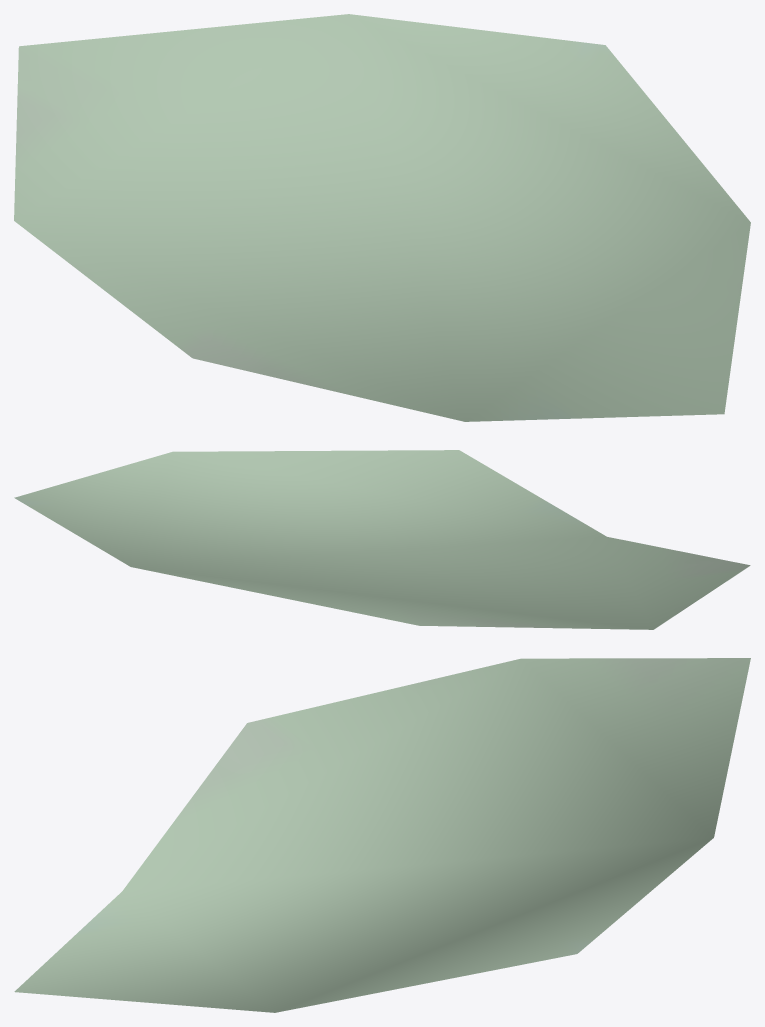
The model's file is TROLLHOLE02_HOLECAP200.fbx.
The picture shows the model from 3 angles, top to bottom: view 1: azimuth 30°, elevation 25°; view 2: azimuth 150°, elevation 25°; view 3: azimuth 270°, elevation 25°; orthographic projection.
Parts seen in each view (by area): view 1: TROLLHOLE02_HOLECAP200; view 2: TROLLHOLE02_HOLECAP200; view 3: TROLLHOLE02_HOLECAP200.
Part boxes in pixels (x1,y1,x2,y2): TROLLHOLE02_HOLECAP200: (14,14,750,421); TROLLHOLE02_HOLECAP200: (14,450,750,629); TROLLHOLE02_HOLECAP200: (14,658,750,1012).
Bounding box in the file's own units: 10963 × 2973 × 11425.
Materials: 1 (1 with a texture image).
